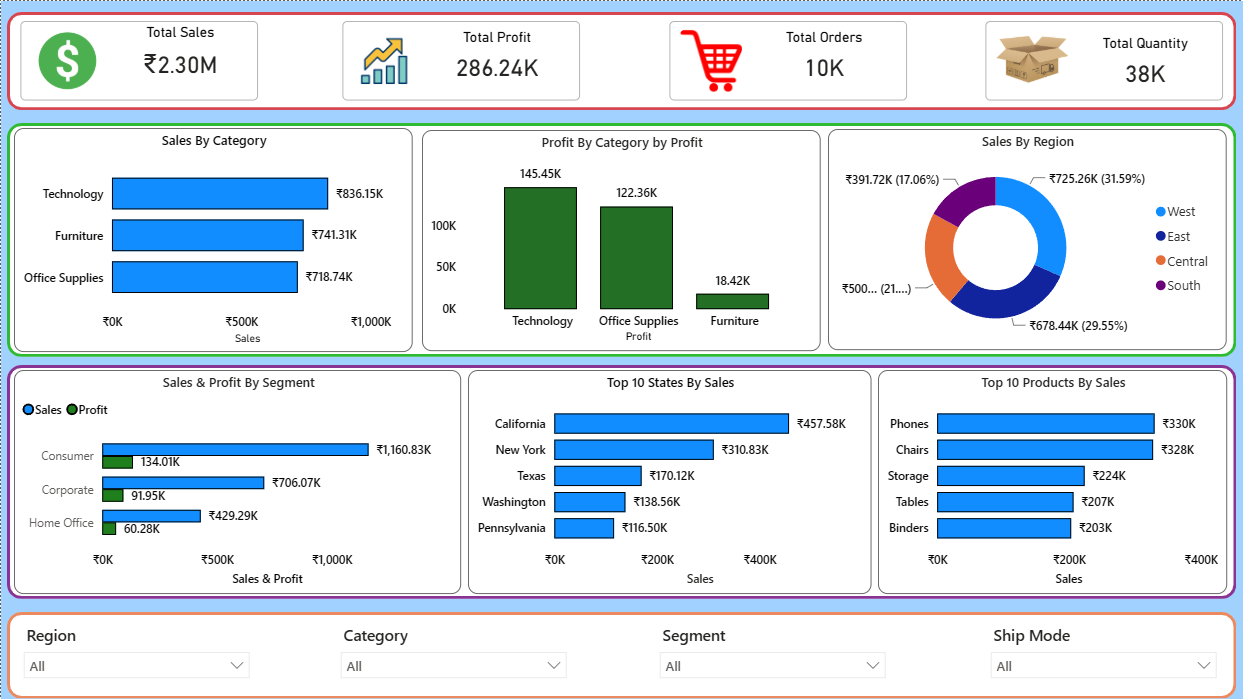

What the dashboard file says about the page in this screenshot:
{"tool":"powerbi","page":{"name":"Page 1","canvas":[1280,720],"ordinal":0},"visuals":[{"type":"shape","box":[5.8,11.7,1267.4,101.2],"z":0},{"type":"shape","box":[5.8,125.5,1267.4,241.2],"z":1000},{"type":"shape","box":[5.8,375.4,1267.4,241.2],"z":2000},{"type":"shape","box":[5.8,630.3,1267.4,89.5],"z":3000},{"type":"cardVisual","title":"Total Sales","fields":{"Data":["Sum(SampleSuperstore(AutoRecovered).Sales)"]},"box":[0,20.7,285.5,82.8],"z":4000},{"type":"cardVisual","title":"Total Sales","fields":{"Data":["Sum(SampleSuperstore(AutoRecovered).Quantity)"]},"box":[994.5,20.7,285.5,82.8],"z":5000},{"type":"cardVisual","title":"Total Sales","fields":{"Data":["Sum(SampleSuperstore(AutoRecovered).Profit)"]},"box":[332.1,20.7,285.5,82.8],"z":6000},{"type":"cardVisual","title":"Total Sales","fields":{"Data":["SampleSuperstore(AutoRecovered).Total Orders"]},"box":[669.3,20.7,285.5,82.8],"z":7000},{"type":"clusteredBarChart","title":" Sales By Category","fields":{"Category":["SampleSuperstore(AutoRecovered).Category"],"Y":["Sum(SampleSuperstore(AutoRecovered).Sales)"]},"box":[13.8,131.1,410.6,231.2],"z":8000},{"type":"clusteredColumnChart","fields":{"Category":["SampleSuperstore(AutoRecovered).Category"],"Y":["Sum(SampleSuperstore(AutoRecovered).Profit)"]},"box":[433.9,132.8,410.6,227.7],"z":9000},{"type":"donutChart","title":" Sales By Region","fields":{"Category":["SampleSuperstore(AutoRecovered).Region"],"Y":["Sum(SampleSuperstore(AutoRecovered).Sales)"]},"box":[853,132,410.6,227.7],"z":10000},{"type":"clusteredBarChart","title":"Top 10 States By Sales","fields":{"Category":["SampleSuperstore(AutoRecovered).State"],"Y":["Sum(SampleSuperstore(AutoRecovered).Sales)"]},"box":[481.3,380.4,415.7,231.2],"z":11000},{"type":"clusteredBarChart","title":"Sales & Profit By Segment","fields":{"Category":["SampleSuperstore(AutoRecovered).Segment"],"Y":["Sum(SampleSuperstore(AutoRecovered).Sales)","Sum(SampleSuperstore(AutoRecovered).Profit)"]},"box":[13.8,380.4,461.5,231.2],"z":12000},{"type":"clusteredBarChart","title":"Top 10 Products By Sales","fields":{"Category":["SampleSuperstore(AutoRecovered).Sub-Category"],"Y":["Sum(SampleSuperstore(AutoRecovered).Sales)"]},"box":[903.9,380.4,359.7,231.2],"z":12001},{"type":"slicer","fields":{"Values":["SampleSuperstore(AutoRecovered).Region"]},"box":[13.4,638.1,252.6,73.2],"z":12002},{"type":"slicer","fields":{"Values":["SampleSuperstore(AutoRecovered).Category"]},"box":[340.2,638.1,252.6,73.2],"z":12003},{"type":"slicer","fields":{"Values":["SampleSuperstore(AutoRecovered).Segment"]},"box":[669.1,638.1,252.6,73.2],"z":12004},{"type":"slicer","fields":{"Values":["SampleSuperstore(AutoRecovered).Ship Mode"]},"box":[1010.3,638.1,252.6,73.2],"z":12005}]}

Visuals, with their boxes in screenshot pixels (x1, y1, x2, y2), scaled from the page's 1280x720 canvas onto the 1243x699 screenshot:
shape: detection(6, 11, 1236, 110)
shape: detection(6, 122, 1236, 356)
shape: detection(6, 364, 1236, 599)
shape: detection(6, 612, 1236, 698)
"Total Sales" cardVisual: detection(0, 20, 277, 100)
"Total Sales" cardVisual: detection(966, 20, 1242, 100)
"Total Sales" cardVisual: detection(323, 20, 600, 100)
"Total Sales" cardVisual: detection(650, 20, 927, 100)
" Sales By Category" clusteredBarChart: detection(13, 127, 412, 352)
clusteredColumnChart - SampleSuperstore(AutoRecovered).Category x Sum(SampleSuperstore(AutoRecovered).Profit): detection(421, 129, 820, 350)
" Sales By Region" donutChart: detection(828, 128, 1227, 349)
"Top 10 States By Sales" clusteredBarChart: detection(467, 369, 871, 594)
"Sales & Profit By Segment" clusteredBarChart: detection(13, 369, 462, 594)
"Top 10 Products By Sales" clusteredBarChart: detection(878, 369, 1227, 594)
slicer - SampleSuperstore(AutoRecovered).Region: detection(13, 619, 258, 691)
slicer - SampleSuperstore(AutoRecovered).Category: detection(330, 619, 576, 691)
slicer - SampleSuperstore(AutoRecovered).Segment: detection(650, 619, 895, 691)
slicer - SampleSuperstore(AutoRecovered).Ship Mode: detection(981, 619, 1226, 691)
